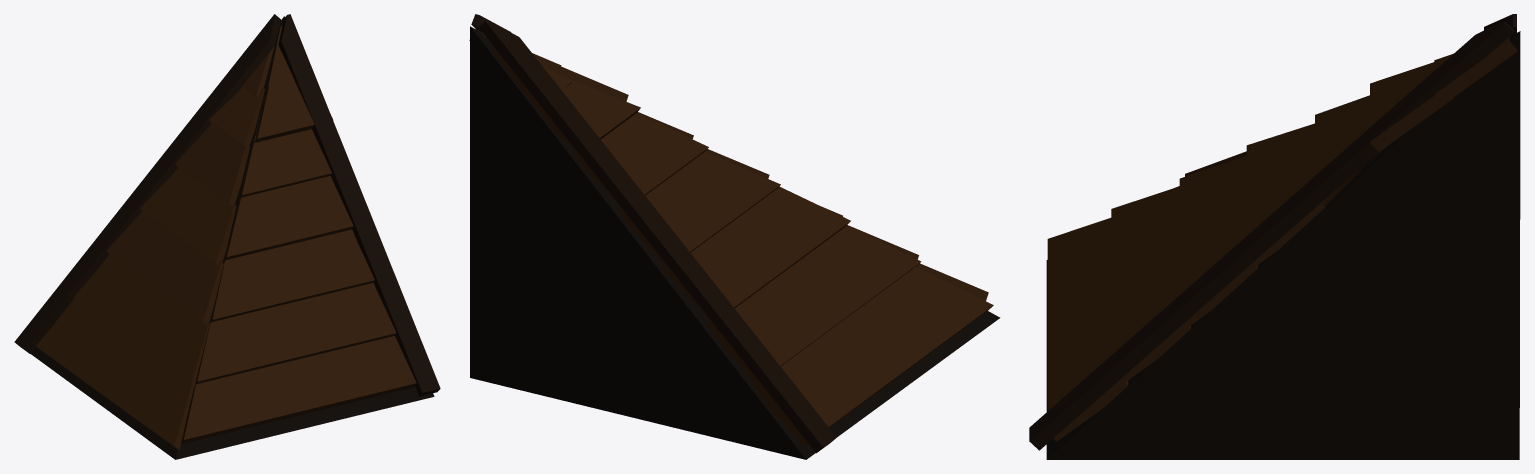
Rendered from SM_RoofWood2.fbx.
3 renders of one model, left to right at view 1: azimuth 30°, elevation 25°; view 2: azimuth 150°, elevation 25°; view 3: azimuth 270°, elevation 25°, orthographic. The views are drawn at different scales.
Visible parts, largest first — view 1: RoofWood2; view 2: RoofWood2; view 3: RoofWood2.
Part boxes in pixels (x1,y1,x2,y2): RoofWood2: (14,14,440,459); RoofWood2: (469,14,1000,459); RoofWood2: (1029,14,1520,459).
Size of the model in its own units: 41.41 by 40.16 by 40.87.
